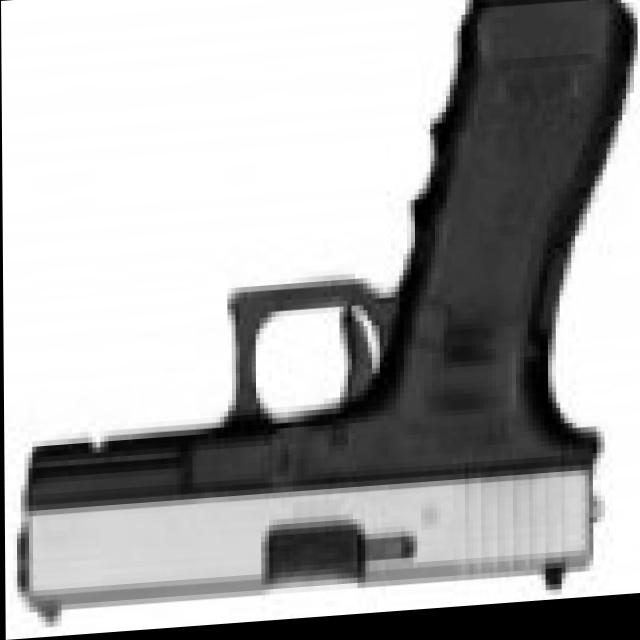handgun: (16, 16, 640, 639)
